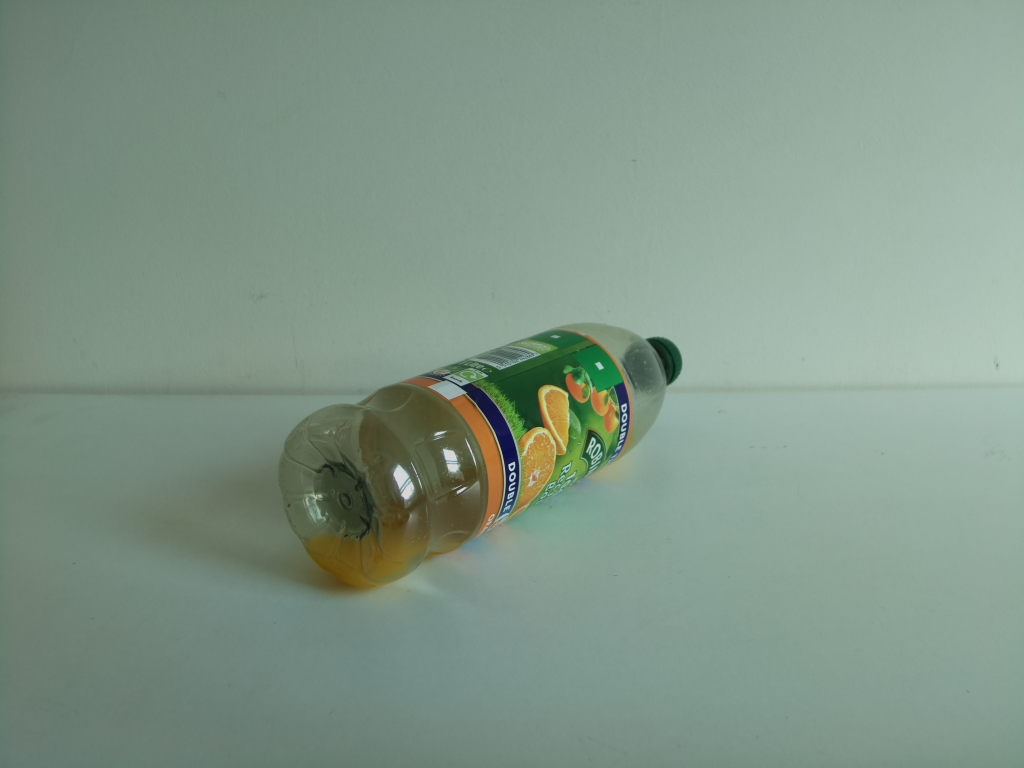juice: (277, 319, 684, 596)
